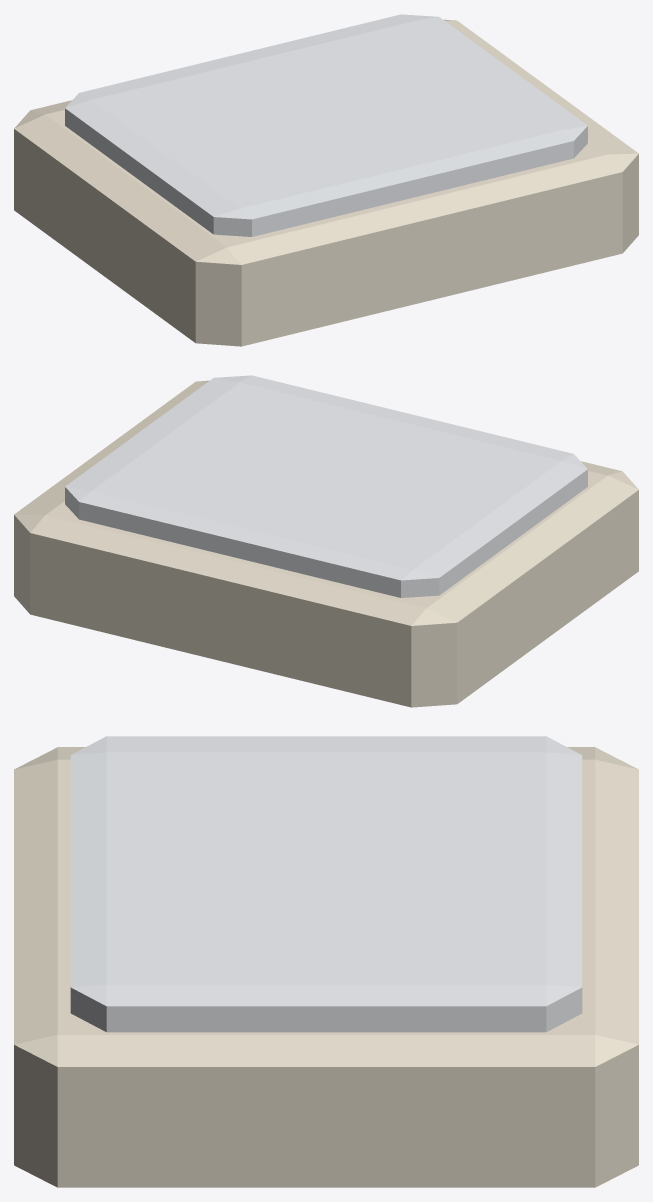
File: b17_folded_picnic_blanket.glb
3 views of the same model, one above another, from view 1: azimuth 30°, elevation 25°; view 2: azimuth 150°, elevation 25°; view 3: azimuth 270°, elevation 25° (orthographic). The views are drawn at different scales.
Visible parts, largest first — view 1: b17_folded_picnic_blanket; view 2: b17_folded_picnic_blanket; view 3: b17_folded_picnic_blanket.
Boxes of the visible parts, x1,y1,x2,y2 form: b17_folded_picnic_blanket: (14,14,638,346); b17_folded_picnic_blanket: (14,375,638,707); b17_folded_picnic_blanket: (14,736,638,1187).
Bounding box in the file's own units: 0.43 × 0.106 × 0.355.
